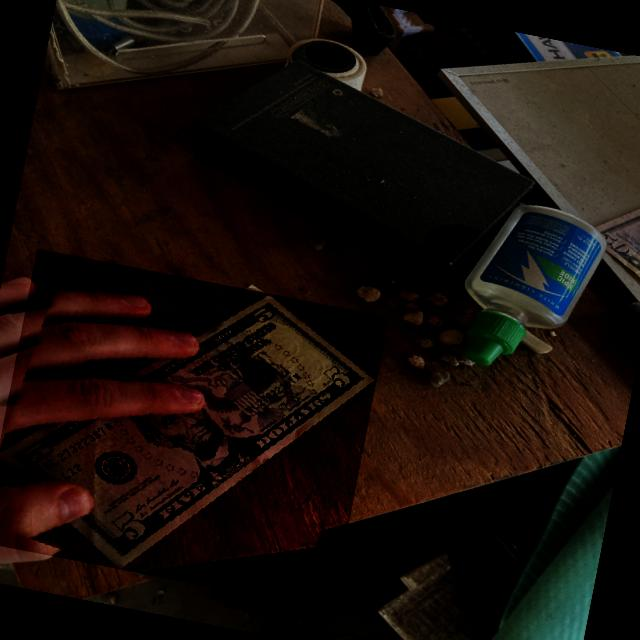five: (0, 248, 377, 589)
